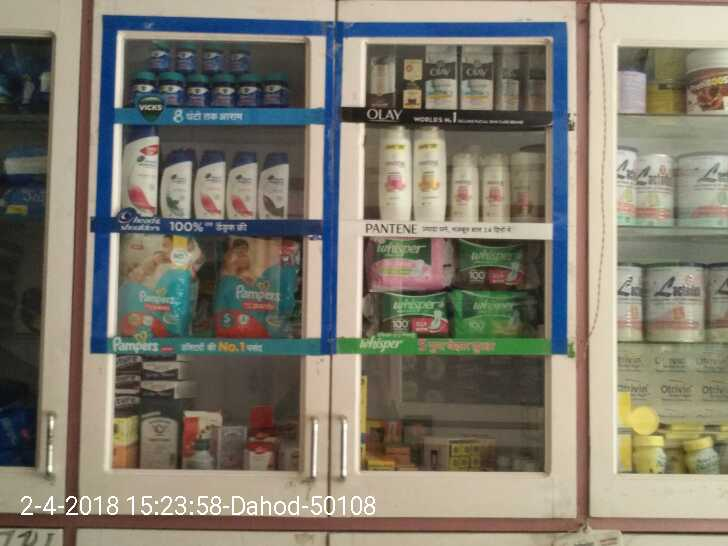vicks: (156, 72, 187, 111), (211, 73, 241, 109), (133, 67, 156, 110), (186, 72, 211, 109), (262, 74, 289, 108), (241, 73, 262, 108), (224, 45, 254, 66), (176, 43, 200, 69), (200, 46, 222, 69), (154, 40, 168, 65)
